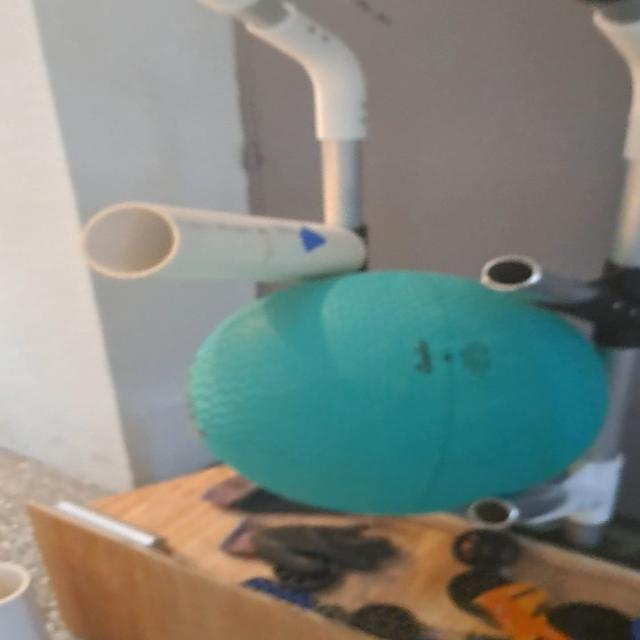ALGAE: (187, 272, 608, 518)
CORAL: (70, 200, 371, 288)
